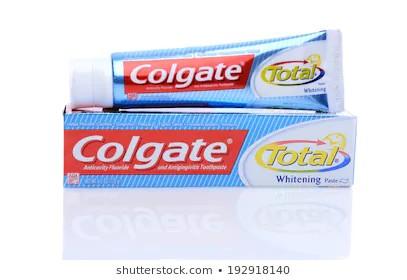colgate-medium: (65, 109, 354, 189)
colgate-total-150gm: (65, 53, 347, 110)
